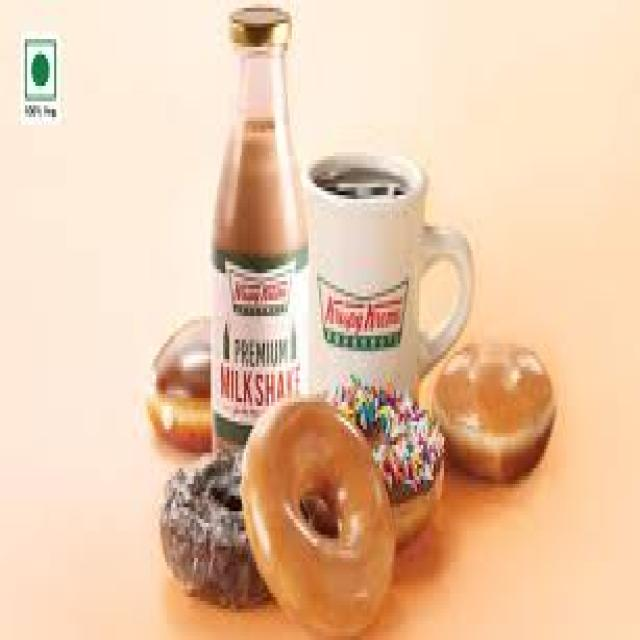Donut: (246, 398, 407, 640)
